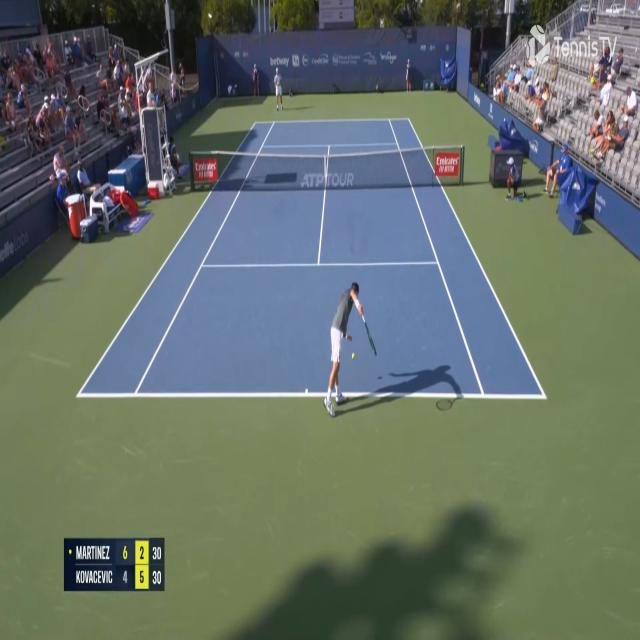tennis-player: (322, 278, 381, 419), (274, 68, 284, 112)
